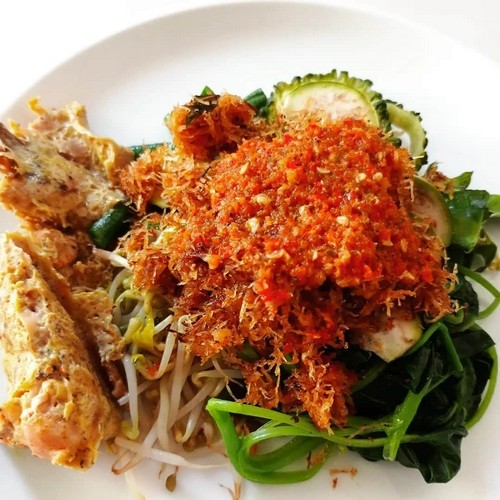serombotan: (159, 189, 500, 474)
